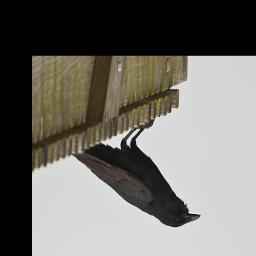Crow: (71, 118, 201, 229)
